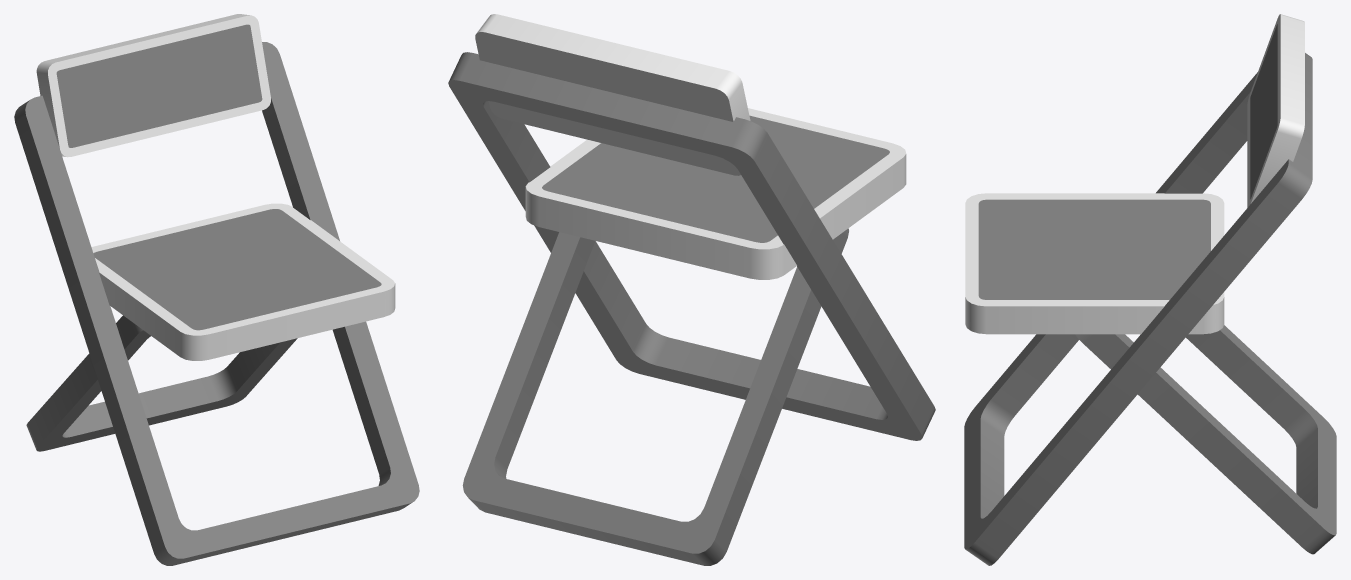
File: Stool White.fbx
The picture shows the model from 3 angles, left to right: view 1: azimuth 30°, elevation 25°; view 2: azimuth 150°, elevation 25°; view 3: azimuth 270°, elevation 25°; orthographic projection. The views are drawn at different scales.
Parts seen in each view (by area): view 1: Stool White; view 2: Stool White; view 3: Stool White.
Boxes of the visible parts, x1,y1,x2,y2 form: Stool White: (14,14,419,565); Stool White: (448,14,935,565); Stool White: (964,14,1336,565).
Size of the model in its own units: 103 by 156 by 120.
